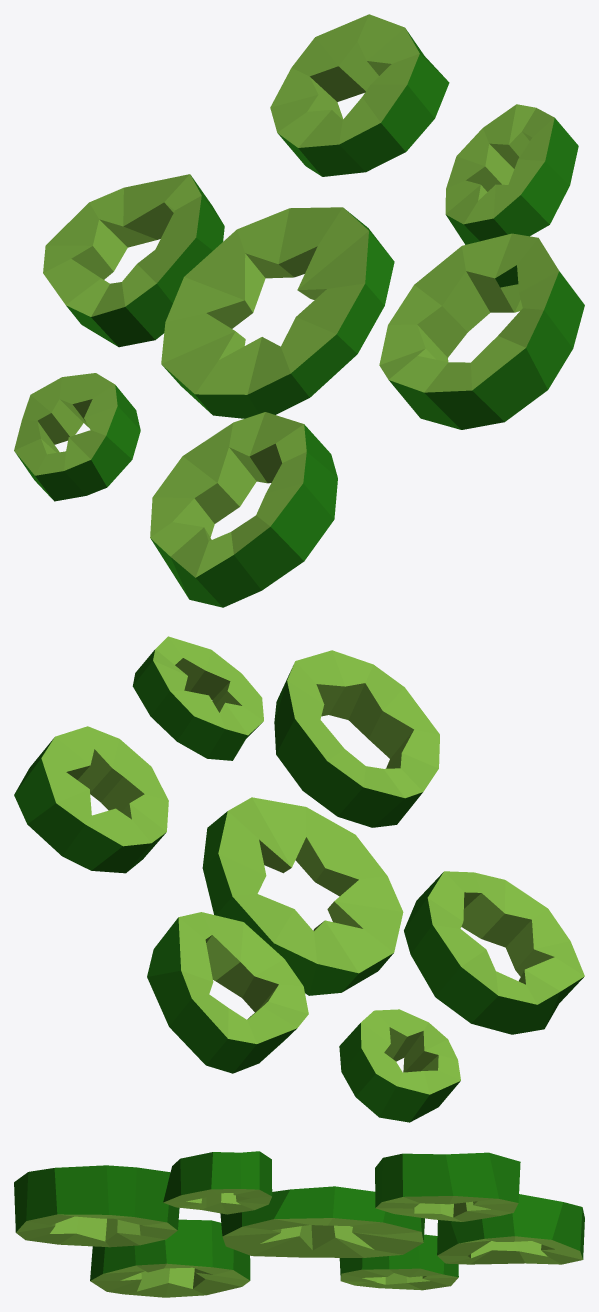
Rendered from Jalapeno.fbx.
The picture shows the model from 3 angles, top to bottom: view 1: azimuth 30°, elevation 25°; view 2: azimuth 150°, elevation 25°; view 3: azimuth 270°, elevation 25°; orthographic projection. The views are drawn at different scales.
Visible parts, largest first — view 1: Jalapeno; view 2: Jalapeno; view 3: Jalapeno.
Part boxes in pixels (left/top/right/bottom): Jalapeno: left=14, top=14, right=584, bottom=607; Jalapeno: left=14, top=636, right=584, bottom=1122; Jalapeno: left=14, top=1151, right=584, bottom=1297.
Bounding box in the file's own units: 91.66 × 71.59 × 120.
